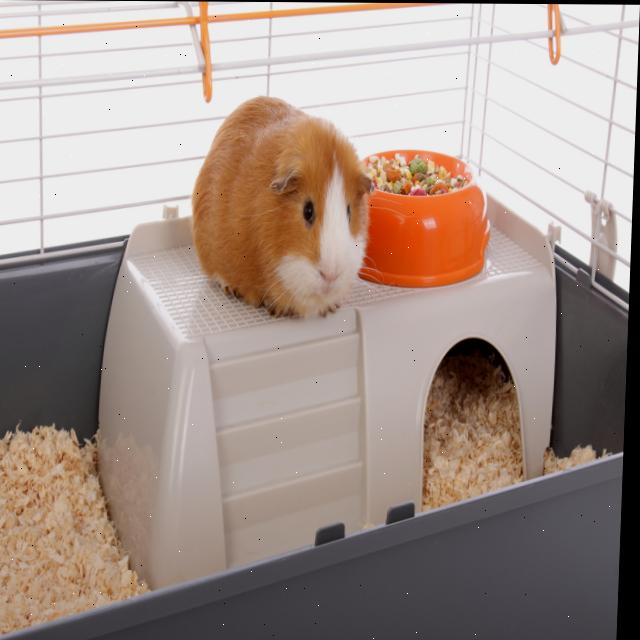guinea pig: (188, 93, 376, 325)
